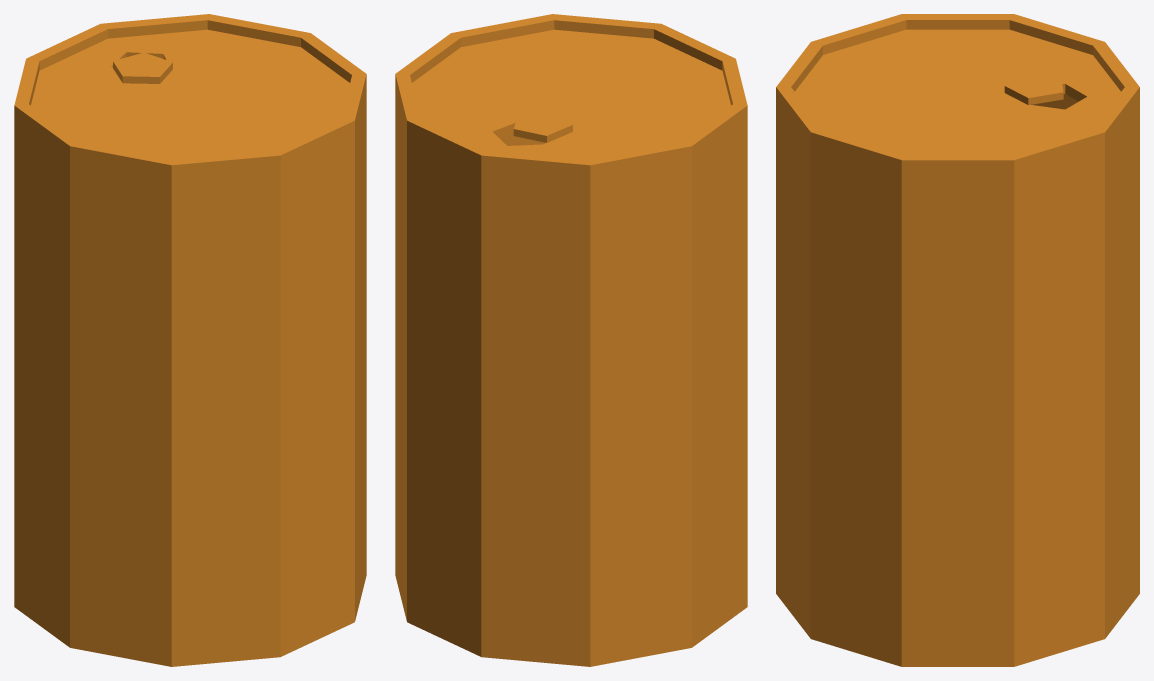
File: oilBox.fbx
The picture shows the model from 3 angles, left to right: view 1: azimuth 30°, elevation 25°; view 2: azimuth 150°, elevation 25°; view 3: azimuth 270°, elevation 25°; orthographic projection.
Visible parts, largest first — view 1: Цилиндр, Цилиндр.001, Цилиндр.002; view 2: Цилиндр, Цилиндр.001, Цилиндр.002; view 3: Цилиндр, Цилиндр.001, Цилиндр.002.
Boxes of the visible parts, x1,y1,x2,y2 form: Цилиндр: (14,94,366,666); Цилиндр.001: (14,14,366,184); Цилиндр.002: (113,52,172,83); Цилиндр: (395,86,747,666); Цилиндр.001: (395,14,747,182); Цилиндр.002: (513,111,572,142); Цилиндр: (776,94,1139,666); Цилиндр.001: (776,14,1139,179); Цилиндр.002: (1004,72,1063,105).
Size of the model in its own units: 95.11 by 154 by 100.
